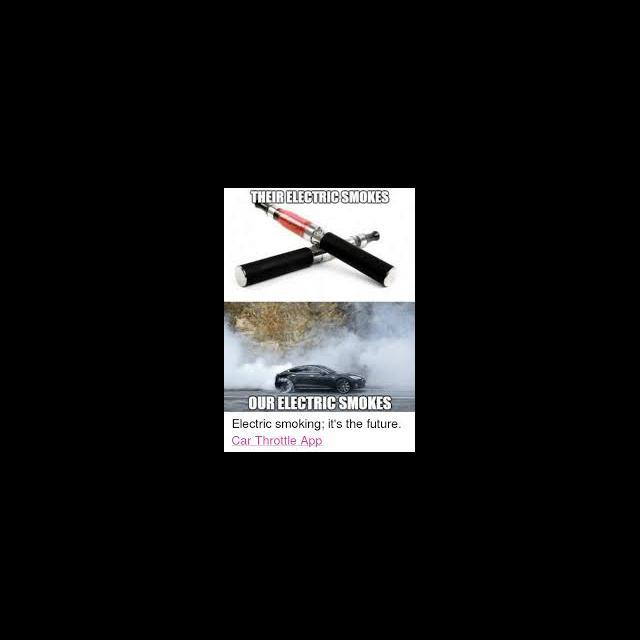Smoke: (368, 301, 414, 390), (276, 327, 367, 364), (225, 320, 272, 390)
